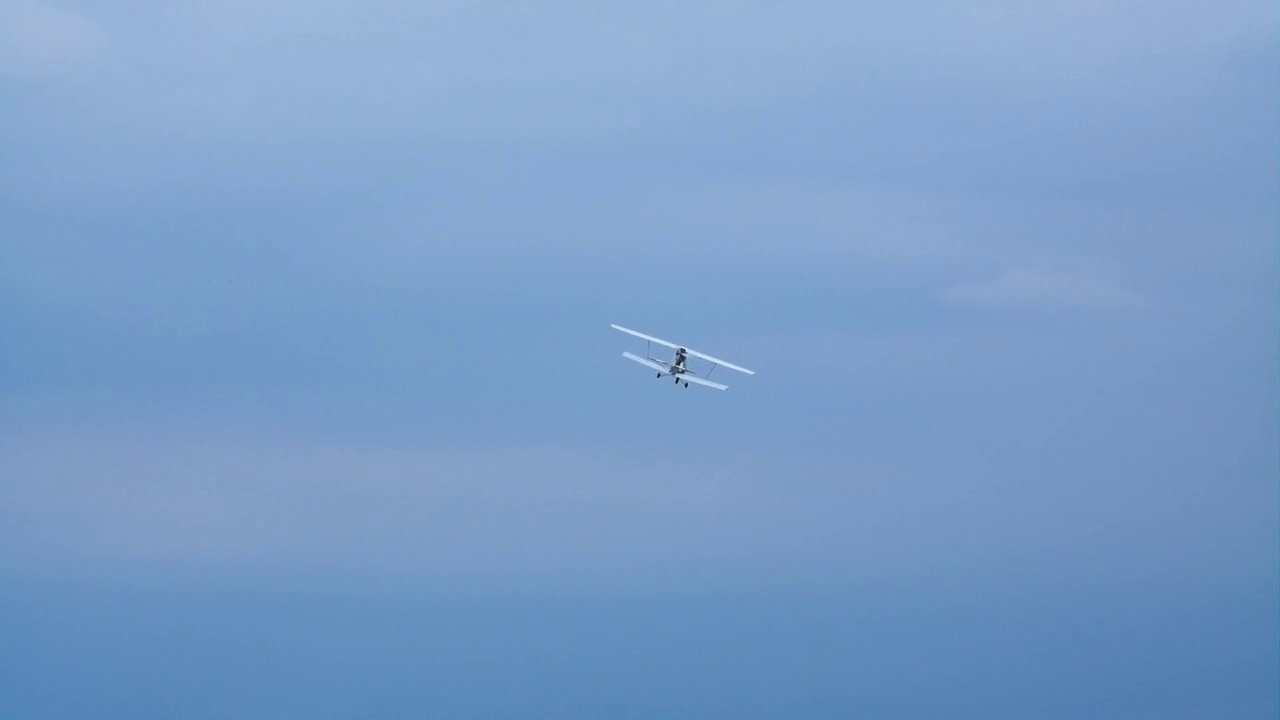plane: (608, 322, 756, 390)
